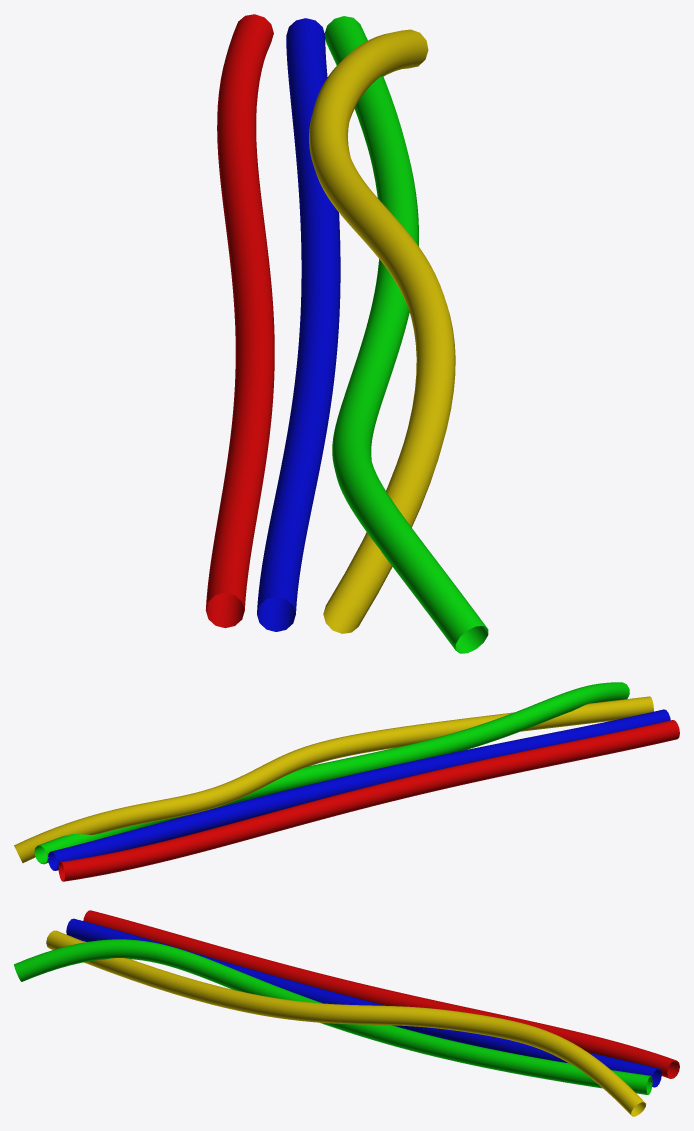
Rendered from fan4.obj.
3 renders of one model, top to bottom at view 1: azimuth 30°, elevation 25°; view 2: azimuth 150°, elevation 25°; view 3: azimuth 270°, elevation 25°, orthographic. The views are drawn at different scales.
Visible parts, largest first — view 1: Fan4; view 2: Fan4; view 3: Fan4.
Boxes of the visible parts, <box> form: Fan4: <box>205,14,488,653</box>; Fan4: <box>14,682,679,881</box>; Fan4: <box>14,910,679,1116</box>.
Size of the model in its own units: 0.5156 by 0.059 by 0.7809.
